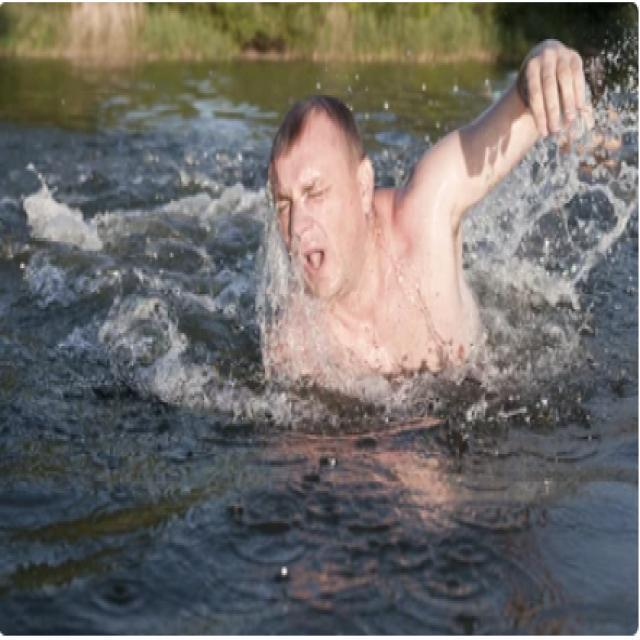drowning: (264, 31, 594, 394)
